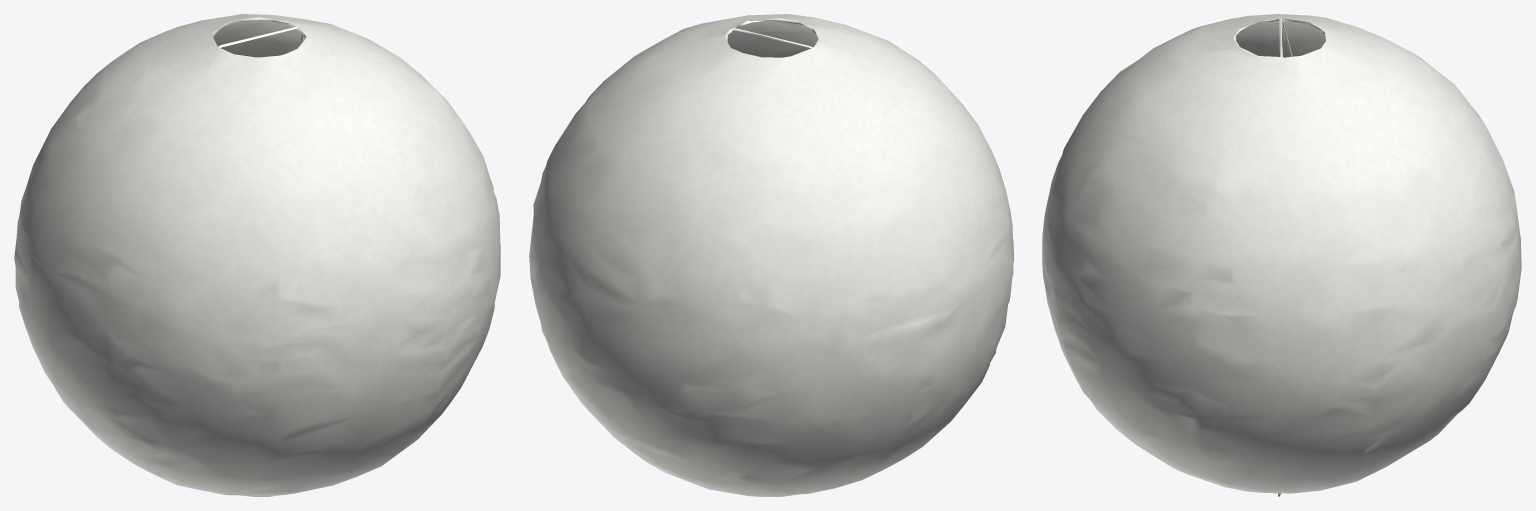
The model's file is gullsudare_klosz_lampy_wiszacej_90603869.glb.
3 renders of one model, left to right at view 1: azimuth 30°, elevation 25°; view 2: azimuth 150°, elevation 25°; view 3: azimuth 270°, elevation 25°, orthographic.
Visible parts, largest first — view 1: gullsudare_klosz_lampy_wiszacej_90603869; view 2: gullsudare_klosz_lampy_wiszacej_90603869; view 3: gullsudare_klosz_lampy_wiszacej_90603869.
Boxes of the visible parts, left/top/right/bottom form: gullsudare_klosz_lampy_wiszacej_90603869: left=14, top=14, right=500, bottom=496; gullsudare_klosz_lampy_wiszacej_90603869: left=529, top=14, right=1013, bottom=496; gullsudare_klosz_lampy_wiszacej_90603869: left=1042, top=14, right=1521, bottom=496.
Size of the model in its own units: 0.4511 by 0.4537 by 0.4506.
1 material, 1 textured.
